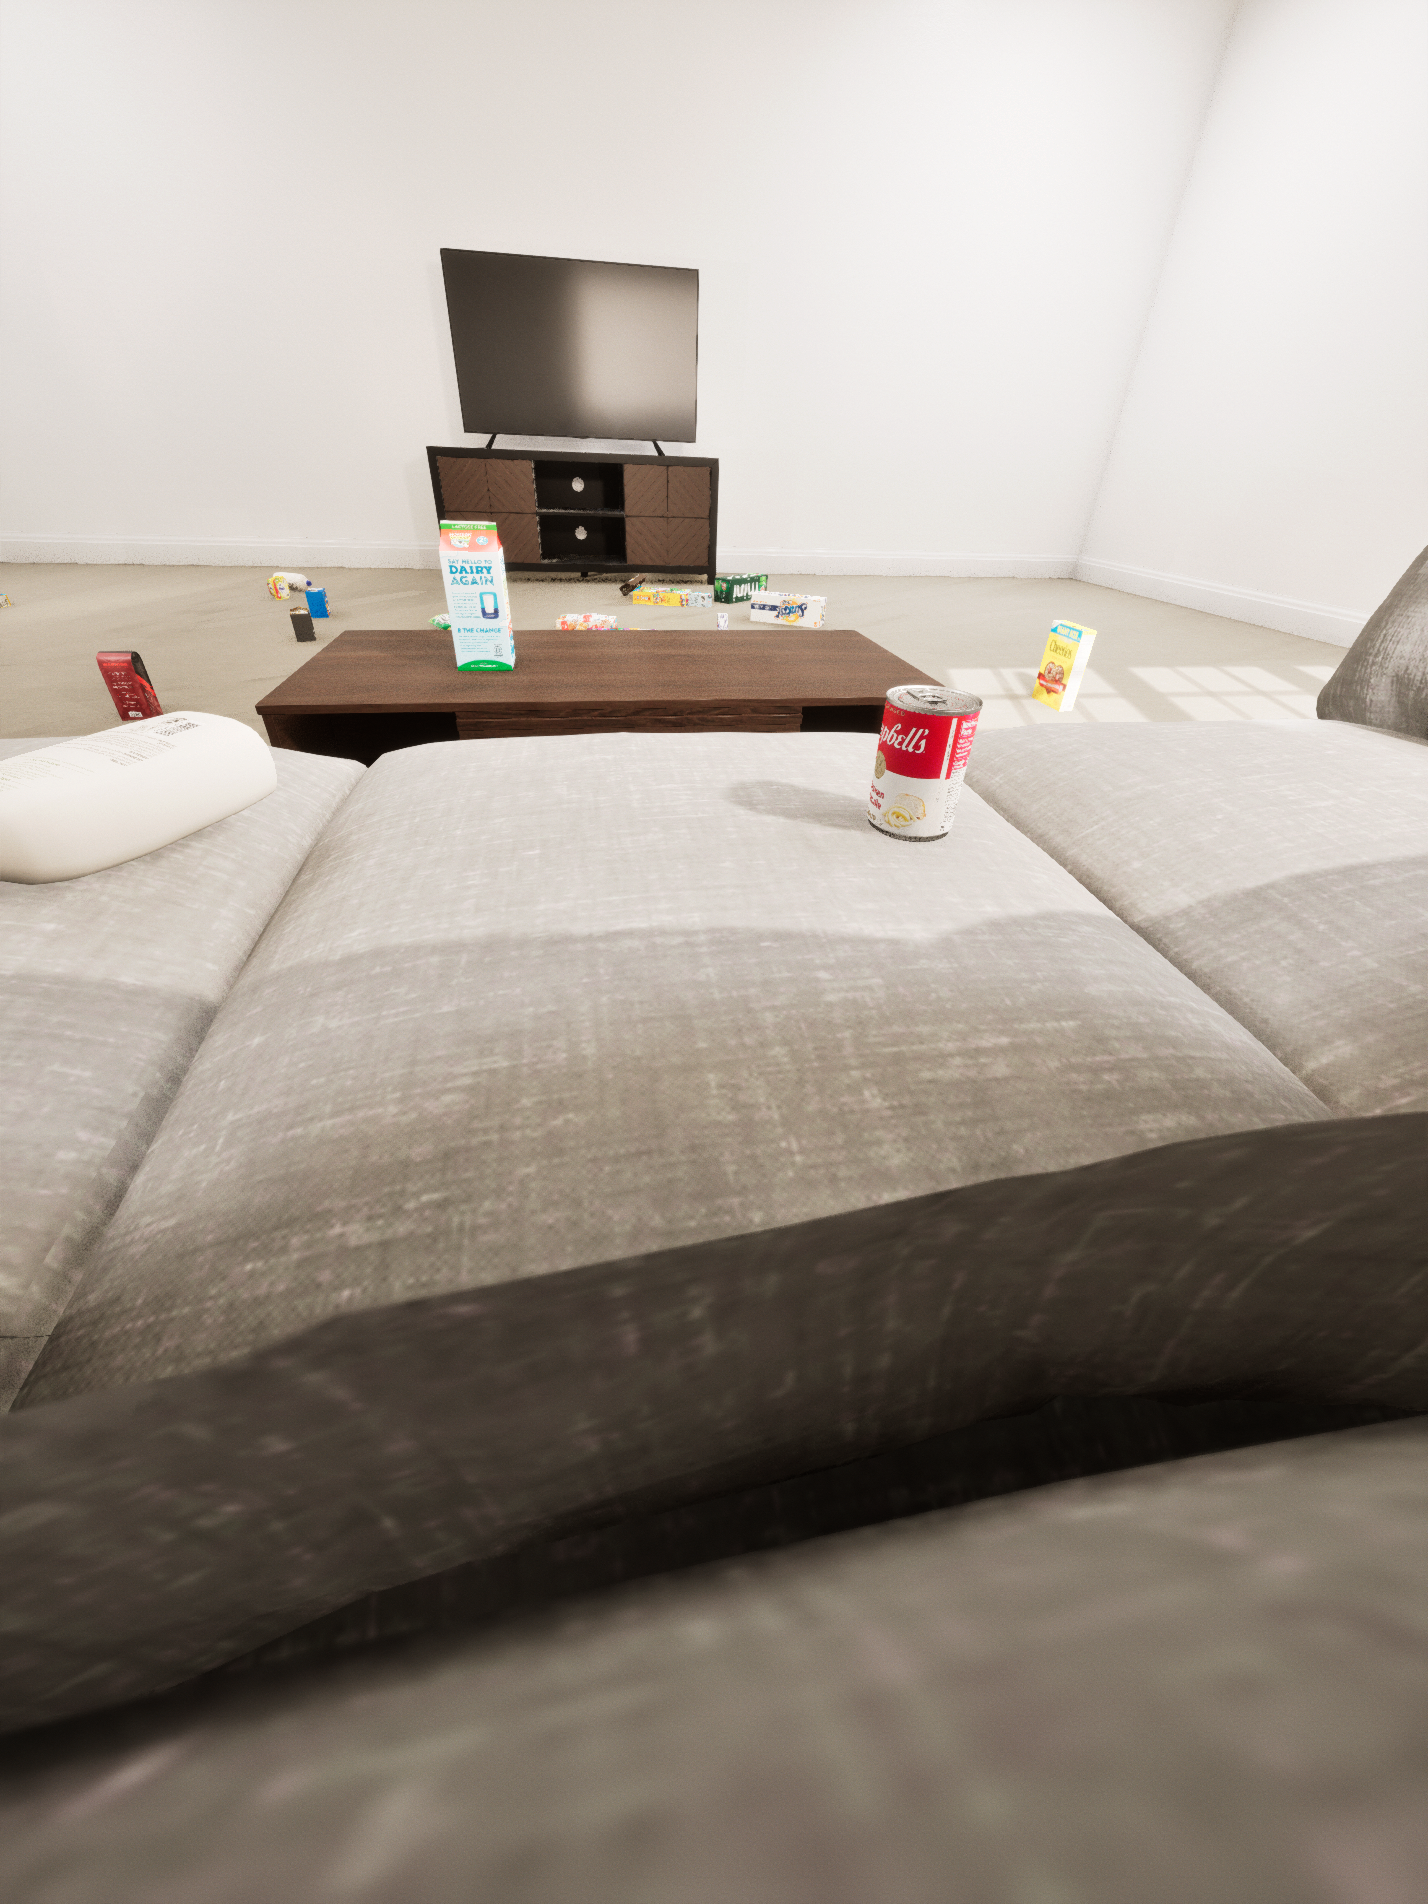cheerios: (1032, 621, 1096, 712)
soup: (867, 685, 982, 843)
